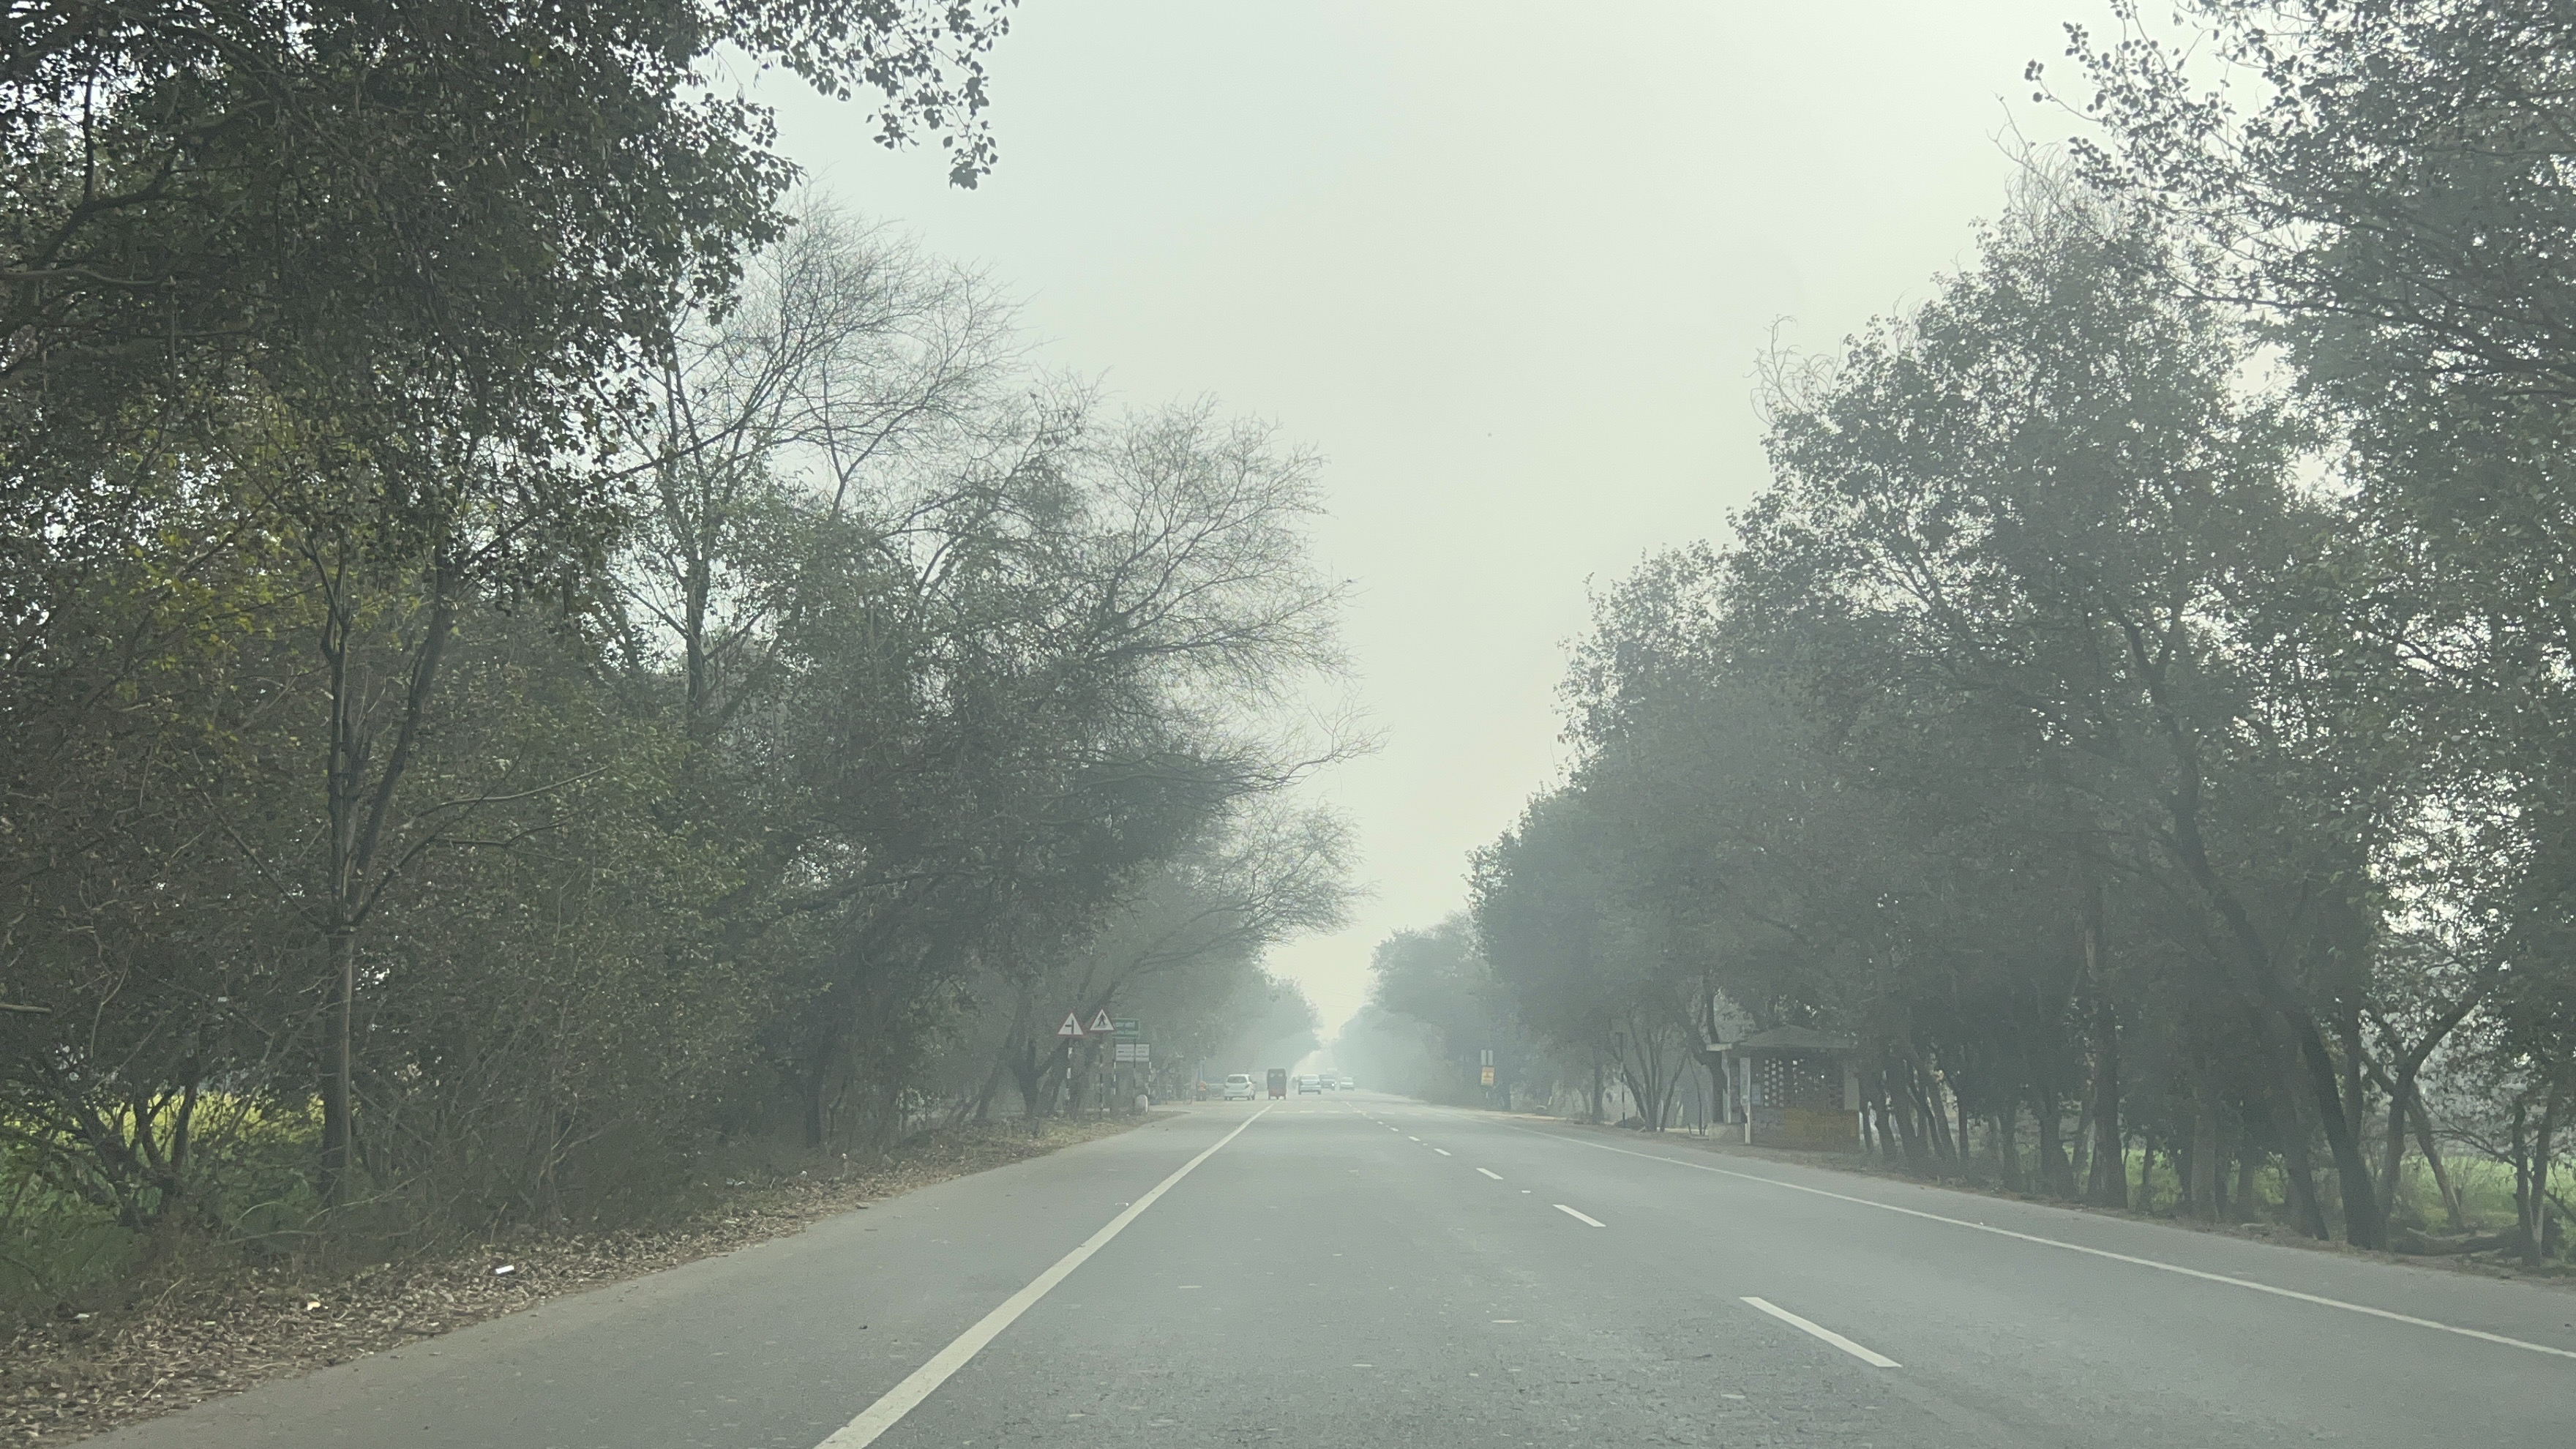Warning: (1083, 998, 1131, 1044), (1049, 1003, 1092, 1049)
